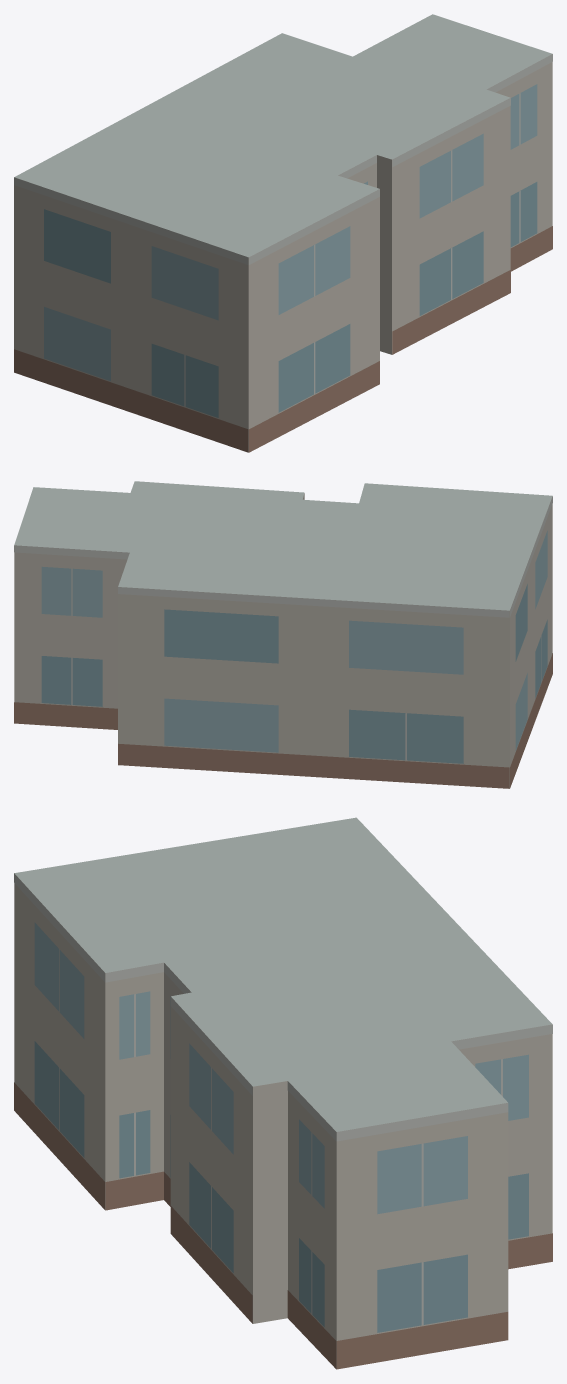
The model's file is survey-upis-32851309.glb.
3 views of the same model, one above another, from view 1: azimuth 30°, elevation 25°; view 2: azimuth 150°, elevation 25°; view 3: azimuth 270°, elevation 25° (orthographic). The views are drawn at different scales.
Visible parts, largest first — view 1: survey-upis-32851309.tmp; view 2: survey-upis-32851309.tmp; view 3: survey-upis-32851309.tmp.
Boxes of the visible parts, box(x1,y1,x2,y2) form: survey-upis-32851309.tmp: box(14, 14, 552, 452); survey-upis-32851309.tmp: box(14, 481, 552, 788); survey-upis-32851309.tmp: box(14, 817, 552, 1369).
Bounding box in the file's own units: 17.35 × 6.1 × 12.56.
